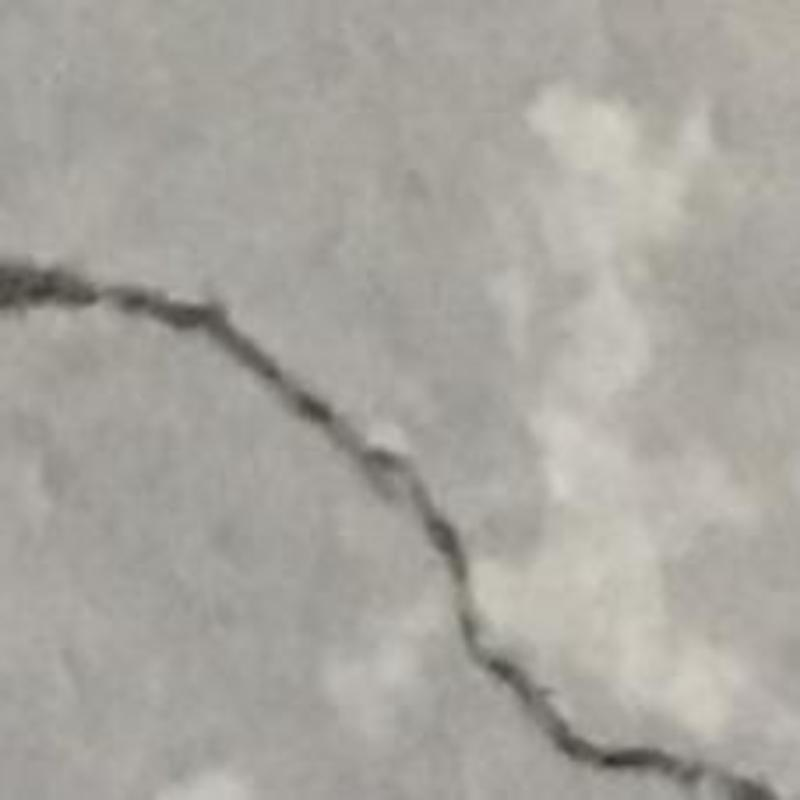pothole: (0, 264, 782, 800)
